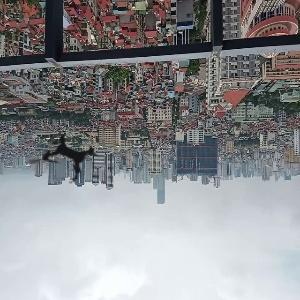drone: (13, 102, 124, 213)
